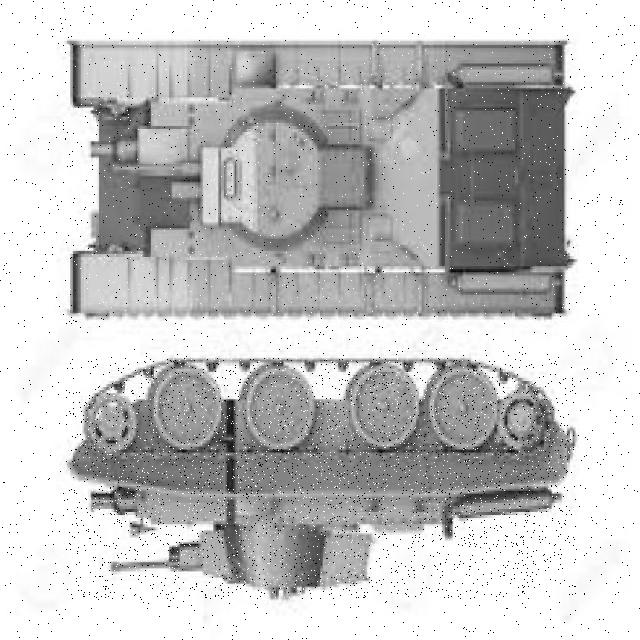MIL_MBT: (69, 43, 568, 321), (66, 358, 576, 599)
